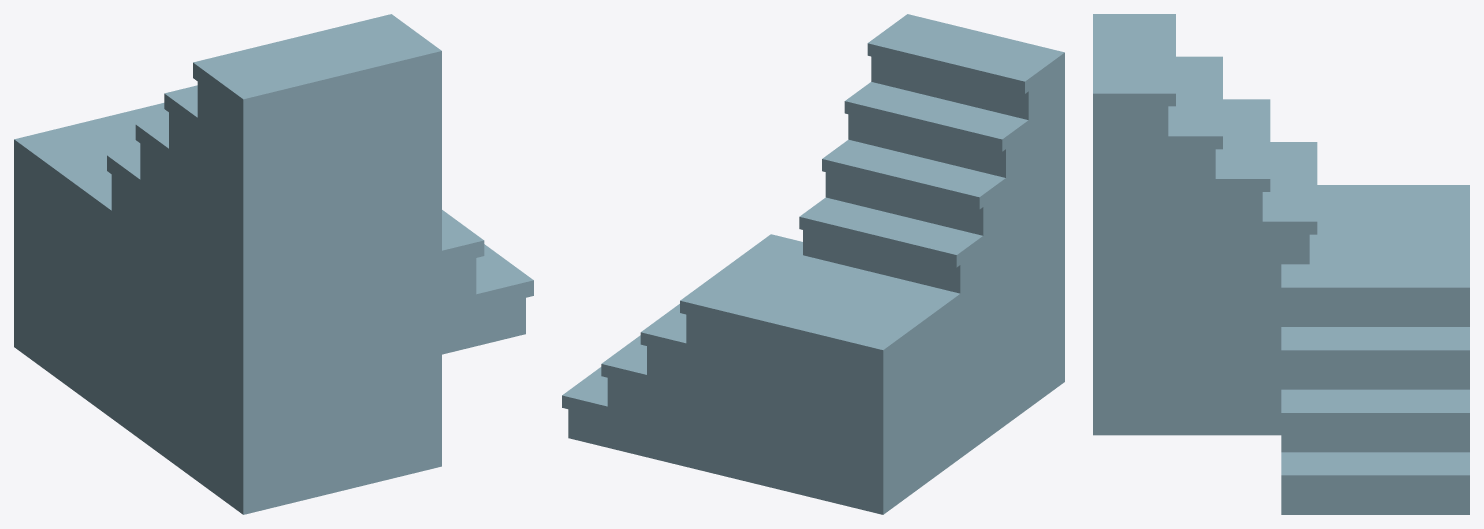
The model's file is stairsStoneCorner.dae.
The picture shows the model from 3 angles, left to right: view 1: azimuth 30°, elevation 25°; view 2: azimuth 150°, elevation 25°; view 3: azimuth 270°, elevation 25°; orthographic projection. The views are drawn at different scales.
Visible parts, largest first — view 1: stairsStoneCorner; view 2: stairsStoneCorner; view 3: stairsStoneCorner.
Boxes of the visible parts, <box> form: stairsStoneCorner: <box>14,14,533,514</box>; stairsStoneCorner: <box>562,14,1064,514</box>; stairsStoneCorner: <box>1093,14,1469,514</box>.
Bounding box in the file's own units: 1.02 × 1 × 1.
